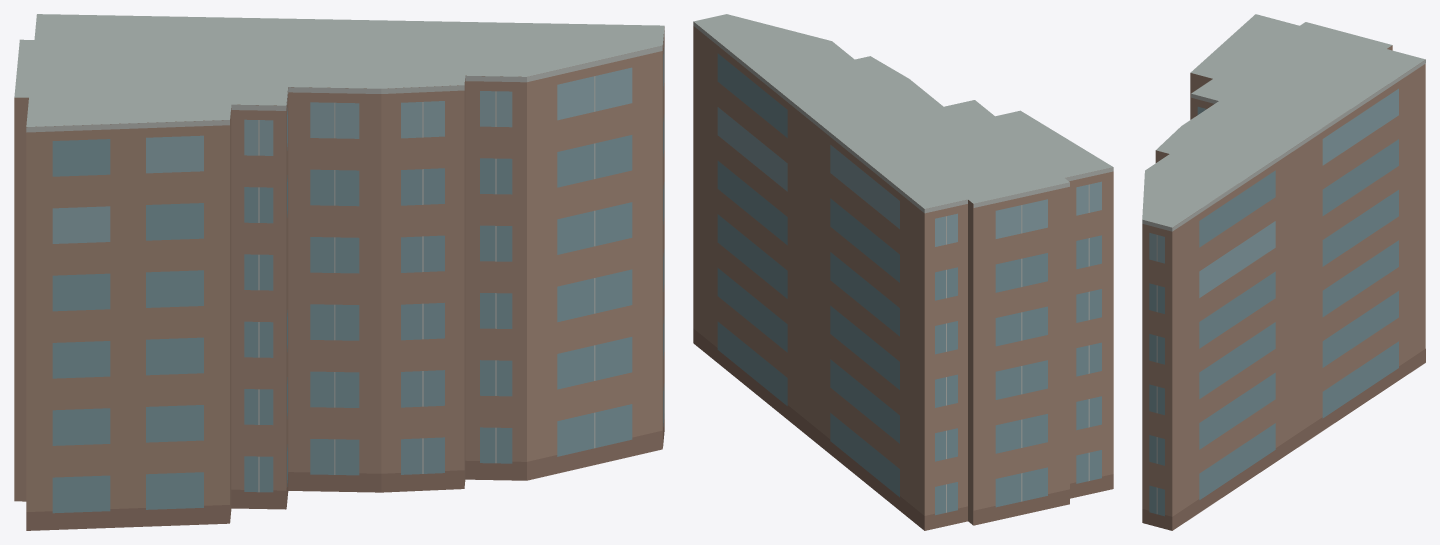
Rendered from survey-upis-33019069.glb.
3 renders of one model, left to right at view 1: azimuth 30°, elevation 25°; view 2: azimuth 150°, elevation 25°; view 3: azimuth 270°, elevation 25°, orthographic. The views are drawn at different scales.
Parts seen in each view (by area): view 1: survey-upis-33019069.tmp; view 2: survey-upis-33019069.tmp; view 3: survey-upis-33019069.tmp.
Boxes of the visible parts, x1=… form: survey-upis-33019069.tmp: x1=14, y1=14, x2=664, y2=530; survey-upis-33019069.tmp: x1=693, y1=14, x2=1113, y2=530; survey-upis-33019069.tmp: x1=1142, y1=14, x2=1425, y2=530.
Size of the model in its own units: 27.65 by 18.3 by 15.52.
